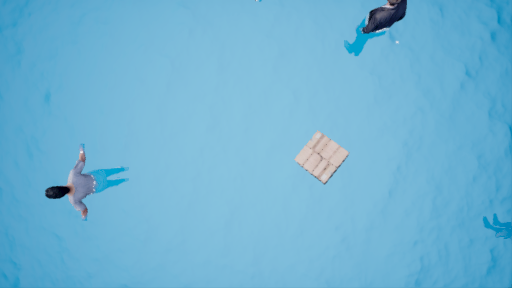person: (41, 145, 131, 221), (347, 1, 413, 65)
